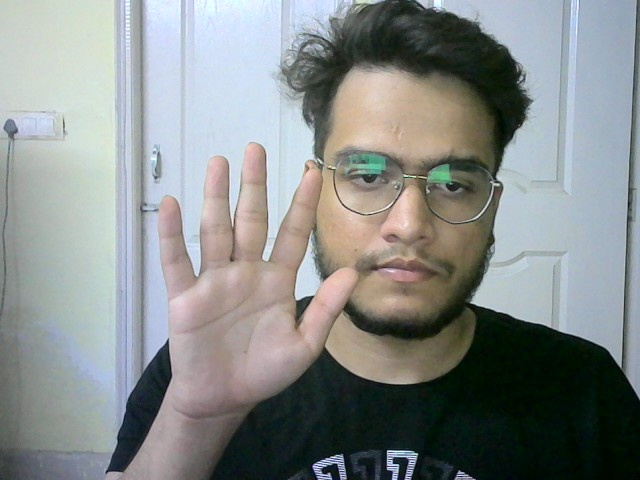Hello: (155, 144, 352, 405)
